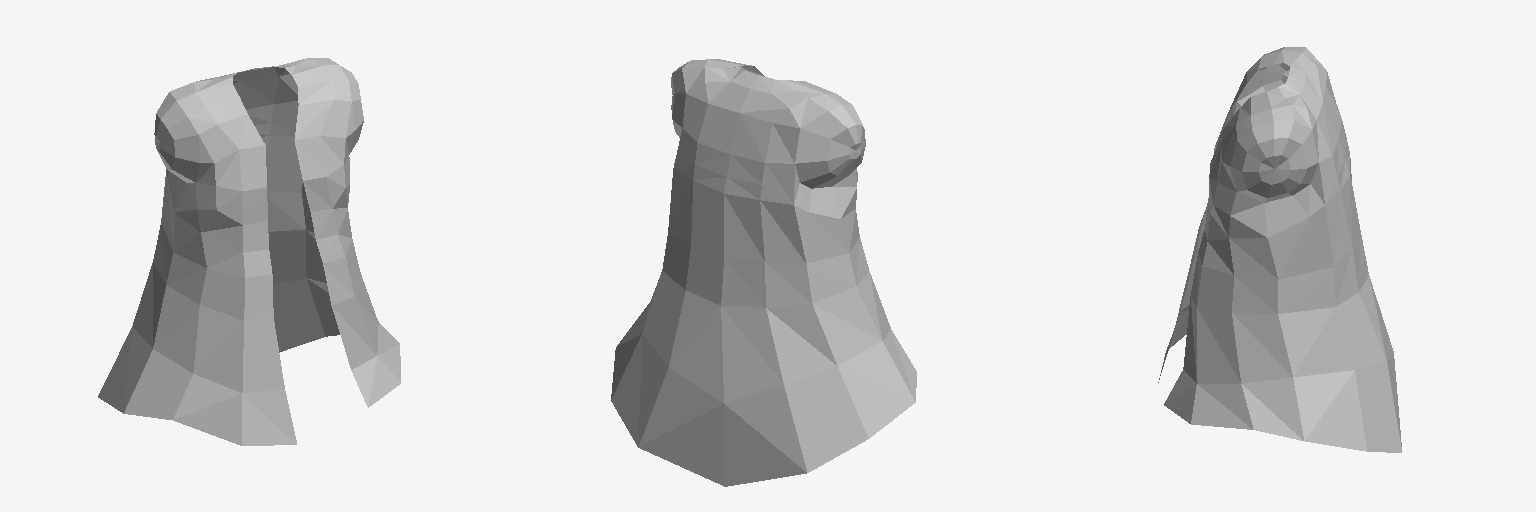
The model's file is kei jacket.obj.
3 views of the same model, side by side, from view 1: azimuth 30°, elevation 25°; view 2: azimuth 150°, elevation 25°; view 3: azimuth 270°, elevation 25° (orthographic).
Visible parts, largest first — view 1: model459.001; view 2: model459.001; view 3: model459.001.
Part boxes in pixels (bbox=[...]): model459.001: bbox=[98, 58, 400, 445]; model459.001: bbox=[611, 59, 916, 486]; model459.001: bbox=[1158, 47, 1401, 452].
Size of the model in its own units: 4.32 by 5.4 by 3.27.